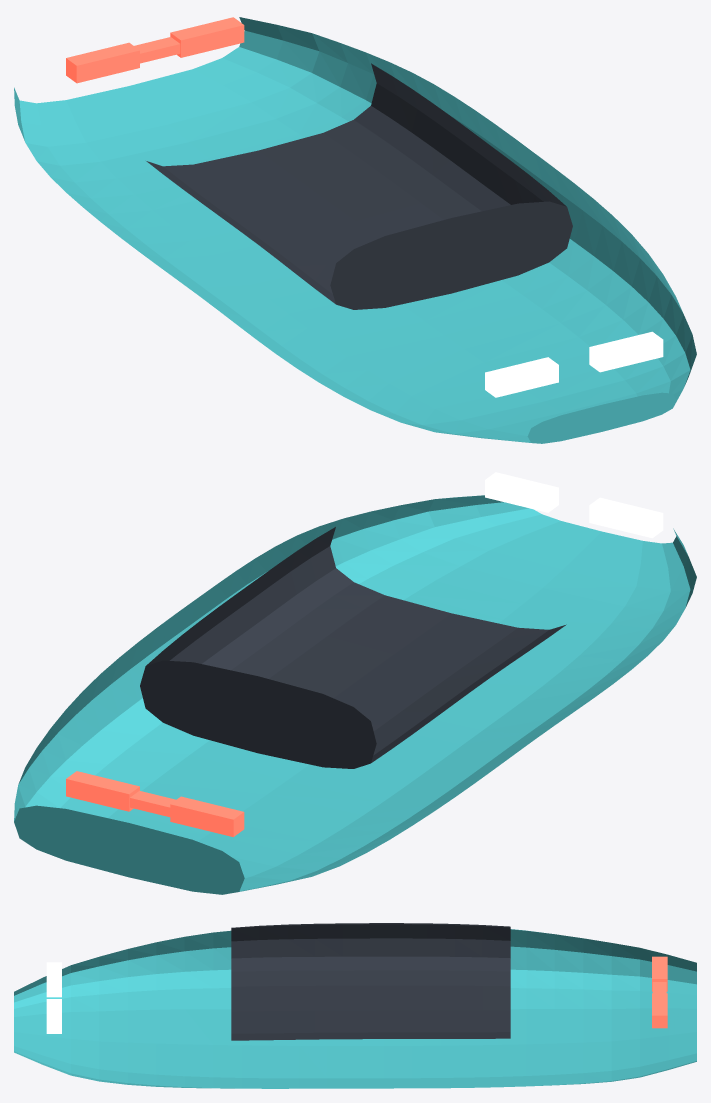
File: roadster-6.glb
3 views of the same model, one above another, from view 1: azimuth 30°, elevation 25°; view 2: azimuth 150°, elevation 25°; view 3: azimuth 270°, elevation 25° (orthographic). The views are drawn at different scales.
Bounding box in the file's own units: 1.91 × 0.6702 × 4.4.
